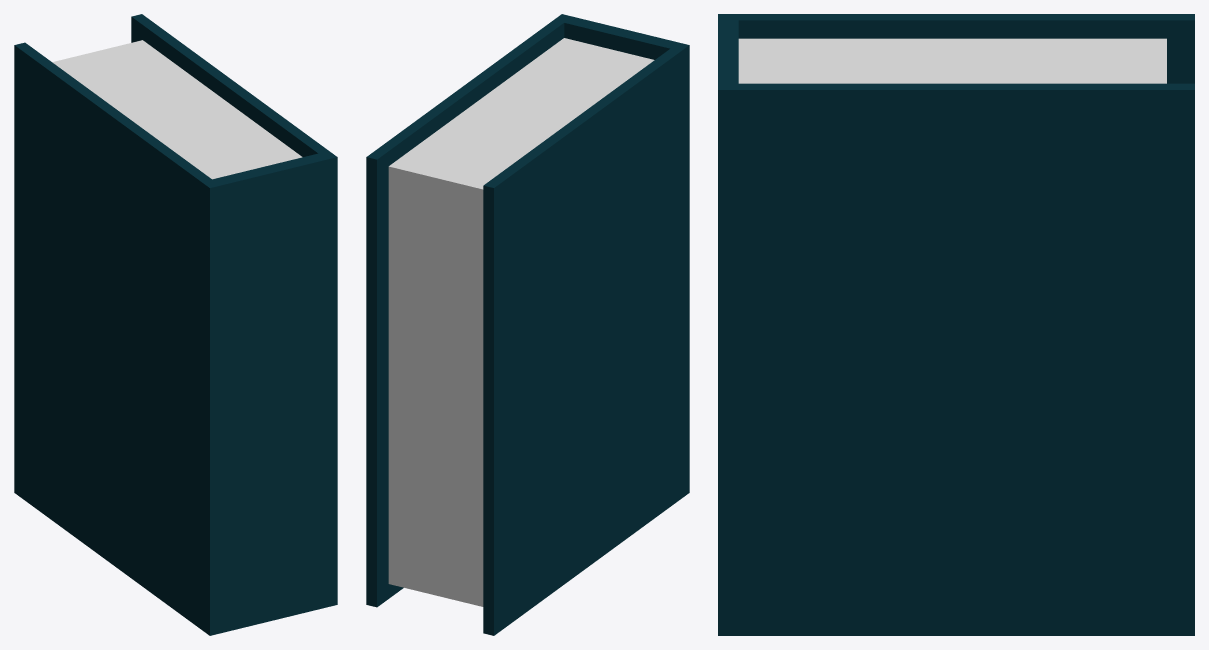
File: book.fbx
3 renders of one model, left to right at view 1: azimuth 30°, elevation 25°; view 2: azimuth 150°, elevation 25°; view 3: azimuth 270°, elevation 25°, orthographic. The views are drawn at different scales.
Parts seen in each view (by area): view 1: Book; view 2: Book; view 3: Book.
Boxes of the visible parts, x1=… form: Book: x1=14, y1=14, x2=337, y2=635; Book: x1=366, y1=14, x2=689, y2=635; Book: x1=718, y1=14, x2=1194, y2=635.
Bounding box in the file's own units: 6.33 × 21.25 × 16.81.
